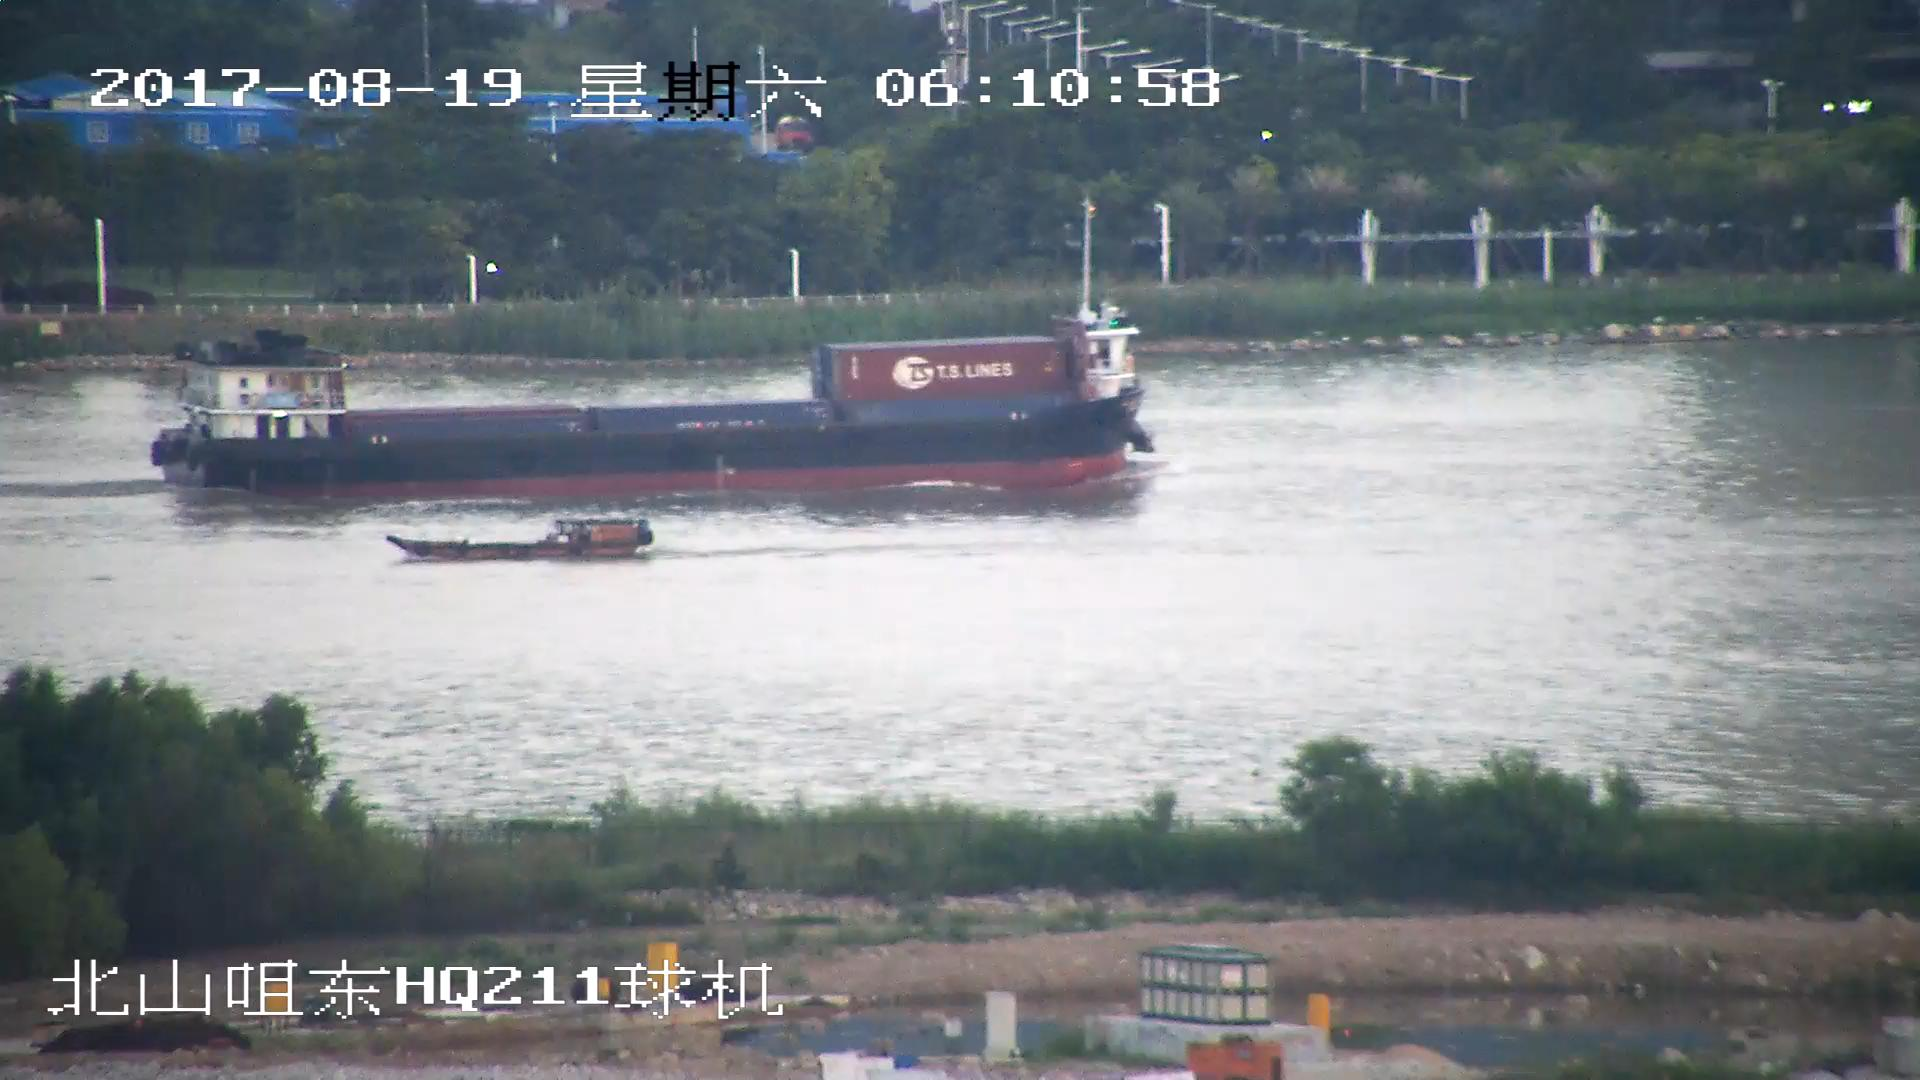container ship: (165, 294, 1150, 503)
fishing boat: (388, 524, 652, 565)
